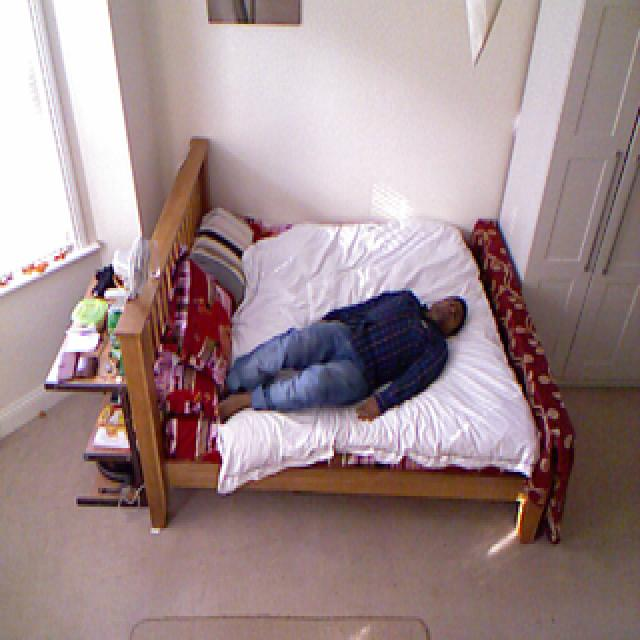lying: (216, 287, 470, 428)
